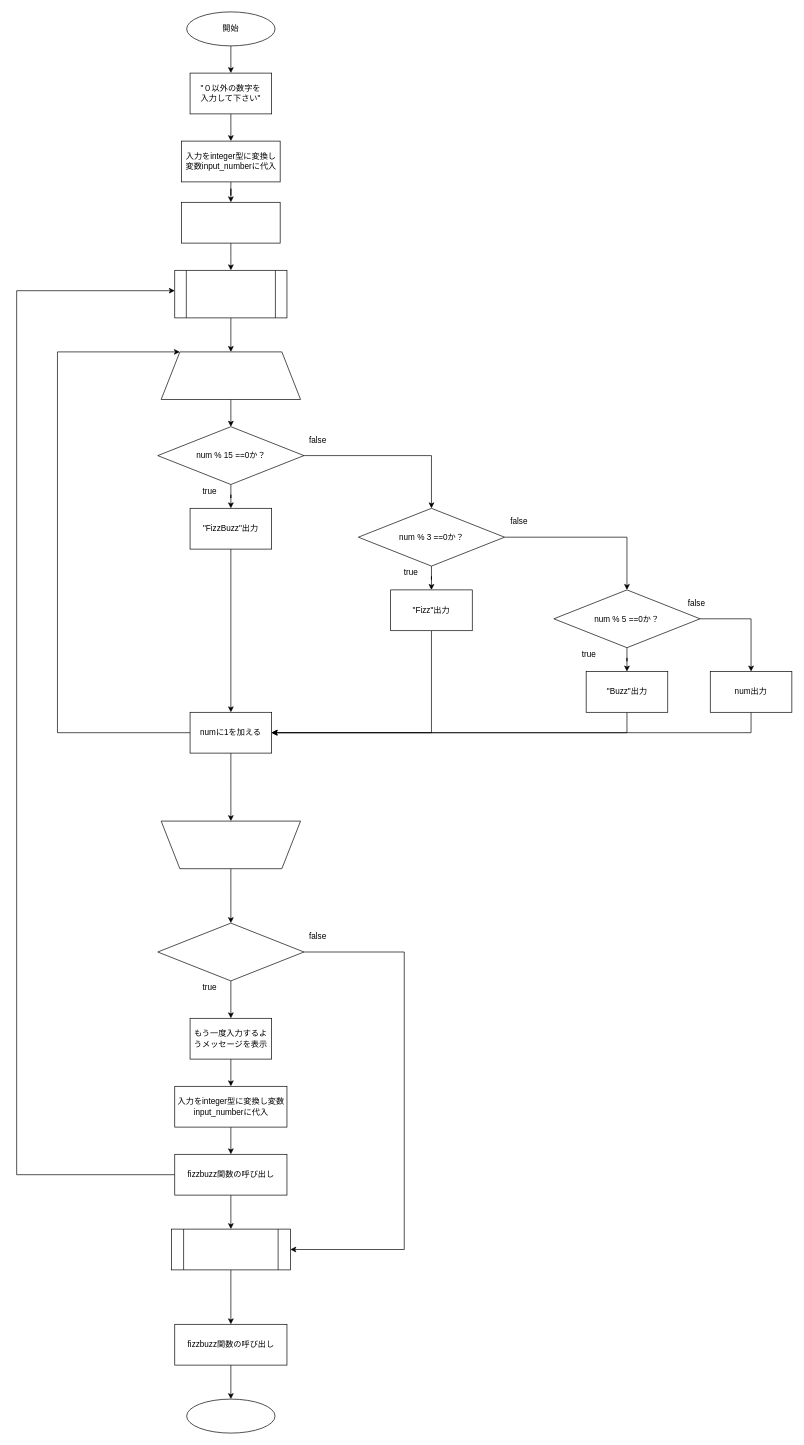
Some shapes in this 804 by 1445 pixel diagram are drawn without their labels. Each missing label, with the centre of its shape:
"1からカウントするため、数値1を変数numに代入" belongs at pixel 230 222.
"fizzbuzz関数 （引数input_number,num)" belongs at pixel 230 294.
"fizzbuzz関数の終了" belongs at pixel 230 1249.
"input_number ==0か？" belongs at pixel 230 951.
"input_numberの回数だけ繰り返す times文" belongs at pixel 230 375.
"終了" belongs at pixel 230 1415.
"繰り返し終了" belongs at pixel 230 844.
